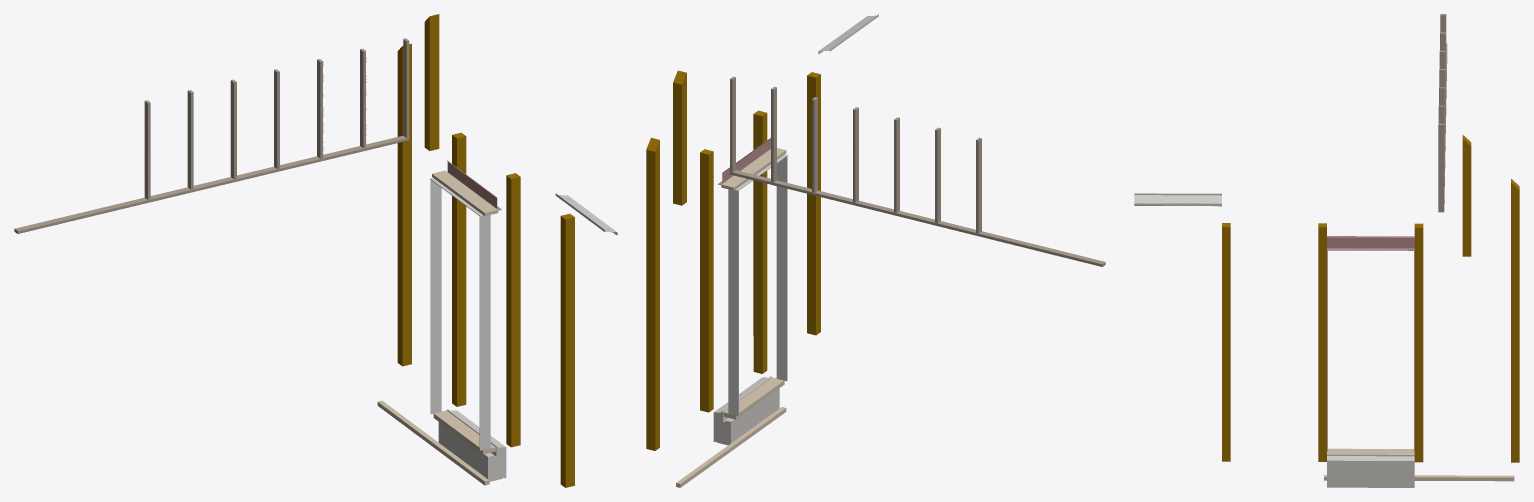
The picture shows the model from 3 angles, left to right: view 1: azimuth 30°, elevation 25°; view 2: azimuth 150°, elevation 25°; view 3: azimuth 270°, elevation 25°; orthographic projection. The views are drawn at different scales.
Bounding box in the file's own units: 5.06 × 4.52 × 4.45.
